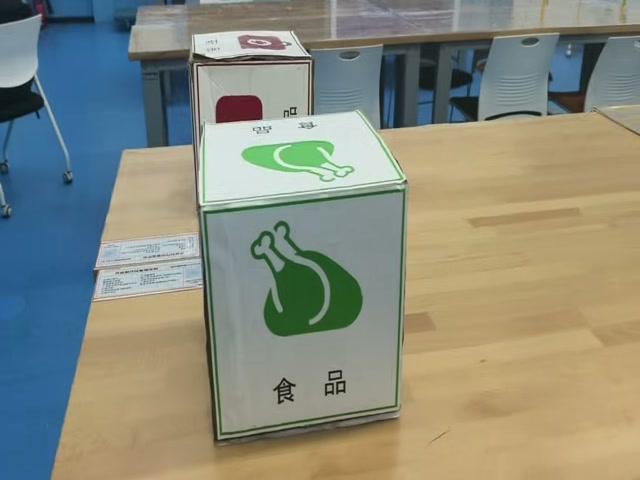Cube_food: (192, 109, 407, 211)
Cube_medicine: (189, 30, 317, 68)
